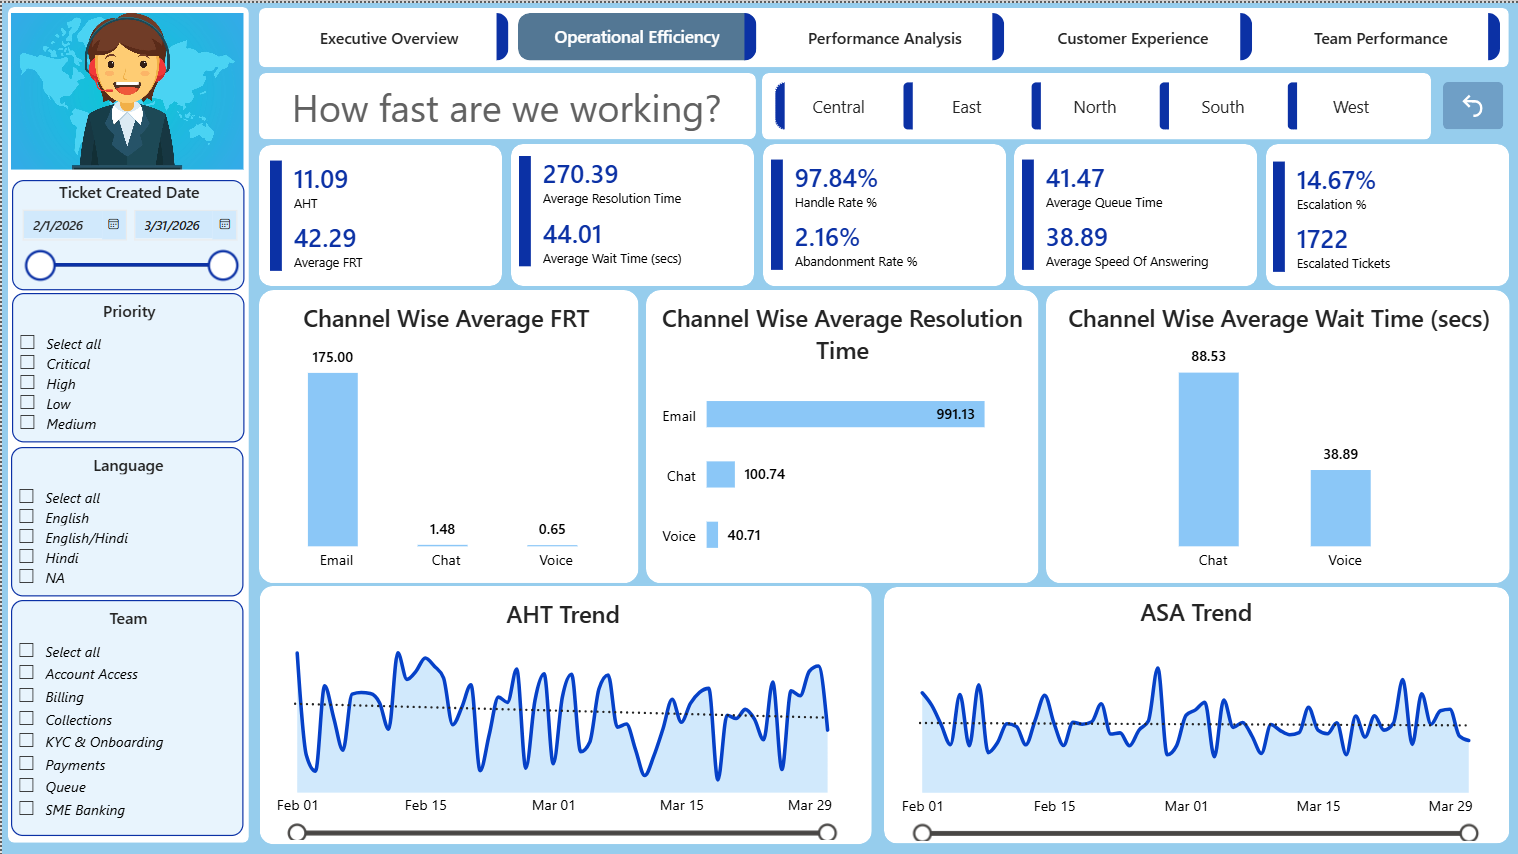

The dashboard page shown, as its layout file describes it:
{"tool":"powerbi","page":{"name":"Operational Efficiency","canvas":[1280,720],"ordinal":2},"visuals":[{"type":"shape","box":[5.4,3.6,203.1,704.6],"z":0,"group":"g14"},{"type":"shape","box":[216.7,4.5,1053.7,49.9],"z":0,"group":"g12"},{"type":"shape","box":[216.7,58.9,418.9,55.9],"z":0,"group":"g11"},{"type":"shape","box":[641.1,58.9,564,56.2],"z":0,"group":"g13"},{"type":"shape","box":[1065.5,118.8,205,120],"z":0,"group":"g5"},{"type":"shape","box":[429.1,118.9,204.9,119.7],"z":0,"group":"g2"},{"type":"shape","box":[641.2,119.1,205,120],"z":0,"group":"g3"},{"type":"shape","box":[853.5,119.1,205,120],"z":0,"group":"g4"},{"type":"group","id":"g1","title":"SLA & Avg Q Score ","box":[216.7,119.7,204.9,118.9],"z":0},{"type":"shape","box":[216.7,119.7,204.9,118.9],"z":0,"group":"g1"},{"type":"shape","box":[216.4,241.7,320,247.3],"z":0,"group":"g6"},{"type":"shape","box":[542.7,241.7,330.9,247.3],"z":0,"group":"g7"},{"type":"shape","box":[880,241.7,390.9,247.3],"z":0,"group":"g8"},{"type":"shape","box":[207.7,491.5,535.9,217.6],"z":0,"group":"g9"},{"type":"shape","box":[743.6,492.7,527.3,216.4],"z":0,"group":"g10"},{"type":"pageNavigator","box":[225.8,9,1040.1,40.8],"z":1000,"group":"g12"},{"type":"textbox","box":[220.5,65.1,410.8,42.8],"z":1000,"group":"g11"},{"type":"advancedSlicerVisual","fields":{"Values":["Call_Center_View.Customer_Region"]},"box":[651.1,65.2,543.2,42.6],"z":1000,"group":"g13"},{"type":"group","id":"g2","title":"Total Tickets & AHT","box":[429.1,118.9,204.9,119.7],"z":1000},{"type":"multiRowCard","fields":{"Values":["Measures Table.Average Resolution Time","Measures Table.Average Wait Time (secs)"]},"box":[436,128.9,189.9,99.8],"z":1000,"group":"g2"},{"type":"multiRowCard","fields":{"Values":["Measures Table.Handle Rate %","Measures Table.Abandonment Rate %"]},"box":[648.1,129.1,190,100],"z":1000,"group":"g3"},{"type":"multiRowCard","fields":{"Values":["Measures Table.Average Queue Time","Measures Table.Average Speed Of Answering"]},"box":[860.4,129.1,190,100],"z":1000,"group":"g4"},{"type":"multiRowCard","fields":{"Values":["Measures Table.AHT","Measures Table.Average FRT"]},"box":[225.9,129.6,189.9,99.1],"z":1000,"group":"g1"},{"type":"multiRowCard","fields":{"Values":["Measures Table.Escalation %","Measures Table.Escalated Tickets"]},"box":[1071.4,130.8,191.3,101.6],"z":1000,"group":"g5"},{"type":"columnChart","title":"Channel Wise Average FRT","fields":{"Category":["Call_Center_View.Channel"],"Y":["Measures Table.Average FRT"]},"box":[220.9,250.8,307.3,231.8],"z":1000,"group":"g6"},{"type":"barChart","title":"Channel Wise Average Resolution Time","fields":{"Category":["Call_Center_View.Channel"],"Y":["Measures Table.Average Resolution Time"]},"box":[552.7,250.8,310.9,231.8],"z":1000,"group":"g7"},{"type":"clusteredColumnChart","title":"Channel Wise Average Wait Time (secs)","fields":{"Category":["Call_Center_View.Channel"],"Y":["Measures Table.Average Wait Time (secs)"]},"box":[891.8,250.8,369.4,231.8],"z":1000,"group":"g8"},{"type":"listSlicer","fields":{"Values":["Call_Center_View.Language"]},"box":[8.3,374.5,195.9,126],"z":1000,"group":"g14"},{"type":"lineChart","title":"ASA Trend","fields":{"Category":["Date_Table.Date.Variation.Date Hierarchy.Year","Date_Table.Date.Variation.Date Hierarchy.Quarter","Date_Table.Date.Variation.Date Hierarchy.Month","Date_Table.Date.Variation.Date Hierarchy.Day"],"Y":["Measures Table.Average Speed Of Answering"]},"box":[747.6,499.3,517.8,206.8],"z":1000,"group":"g10"},{"type":"lineChart","title":"AHT Trend","fields":{"Category":["Date_Table.Date.Variation.Date Hierarchy.Year","Date_Table.Date.Variation.Date Hierarchy.Quarter","Date_Table.Date.Variation.Date Hierarchy.Month","Date_Table.Date.Variation.Date Hierarchy.Day"],"Y":["Measures Table.AHT"]},"box":[220.8,501,504.2,204.9],"z":1000,"group":"g9"},{"type":"group","id":"g3","title":"Handled & Resolved Tickets","box":[641.2,119.1,205,120],"z":2000},{"type":"slicer","title":"Ticket Created Date","fields":{"Values":["Call_Center_View.Created Date"]},"box":[8.4,149.2,195.6,92.7],"z":2000,"group":"g14"},{"type":"group","id":"g4","title":"Pending & Abandoned Tickets","box":[853.5,119.1,205,120],"z":3000},{"type":"listSlicer","fields":{"Values":["Call_Center_View.Team"]},"box":[8.3,503.6,195.9,198.6],"z":3000,"group":"g14"},{"type":"group","id":"g5","title":"Open & Reopened Tickets","box":[1065.5,118.8,205,120],"z":4000},{"type":"listSlicer","fields":{"Values":["Call_Center_View.Priority"]},"box":[8.5,245,195.6,126.5],"z":4000,"group":"g14"},{"type":"image","box":[8.1,9,195.9,132.4],"z":5000,"group":"g14"},{"type":"group","id":"g6","title":"Channel Wise SLA","box":[216.4,241.7,320,247.3],"z":5000},{"type":"group","id":"g7","title":"Channel Wise AHT","box":[542.7,241.7,330.9,247.3],"z":6000},{"type":"group","id":"g8","title":"Channel Wise Tickets","box":[880,241.7,390.9,247.3],"z":7000},{"type":"group","id":"g9","title":"Tickets Inflow Trend","box":[207.7,491.5,535.9,217.6],"z":8000},{"type":"group","id":"g10","title":"Service Level Trend","box":[743.6,492.7,527.3,216.4],"z":9000},{"type":"group","id":"g11","title":"What's happening ?","box":[216.7,58.9,418.9,55.3],"z":10000},{"type":"group","id":"g12","title":"Page Navigator","box":[216.7,4.5,1053.7,49.9],"z":11000},{"type":"group","id":"g13","title":"Customer Region","box":[641.1,58.9,564,56.2],"z":12000},{"type":"actionButton","title":"Reset All Filters","box":[1215.1,66.2,50.8,39.9],"z":13000},{"type":"group","id":"g14","title":"Left Filter Pane","box":[5.4,3.6,203.1,704.6],"z":14000}]}

Visuals, with their boxes in screenshot pixels (x1, y1, x2, y2), scaled from the page's 1280x720 canvas onto the 1518x854 screenshot:
shape: [6, 4, 247, 840]
shape: [257, 5, 1507, 65]
shape: [257, 70, 754, 136]
shape: [760, 70, 1429, 137]
shape: [1264, 141, 1507, 283]
shape: [509, 141, 752, 283]
shape: [760, 141, 1004, 284]
shape: [1012, 141, 1255, 284]
"SLA & Avg Q Score " group: [257, 142, 500, 283]
shape: [257, 142, 500, 283]
shape: [257, 287, 636, 580]
shape: [644, 287, 1036, 580]
shape: [1044, 287, 1507, 580]
shape: [246, 583, 882, 841]
shape: [882, 584, 1507, 841]
pageNavigator: [268, 11, 1501, 59]
textbox: [261, 77, 749, 128]
advancedSlicerVisual - Call_Center_View.Customer_Region: [772, 77, 1416, 128]
"Total Tickets & AHT" group: [509, 141, 752, 283]
multiRowCard - Measures Table.Average Resolution Time x Measures Table.Average Wait Time (secs): [517, 153, 742, 271]
multiRowCard - Measures Table.Handle Rate % x Measures Table.Abandonment Rate %: [769, 153, 994, 272]
multiRowCard - Measures Table.Average Queue Time x Measures Table.Average Speed Of Answering: [1020, 153, 1246, 272]
multiRowCard - Measures Table.AHT x Measures Table.Average FRT: [268, 154, 493, 271]
multiRowCard - Measures Table.Escalation % x Measures Table.Escalated Tickets: [1271, 155, 1497, 276]
"Channel Wise Average FRT" columnChart: [262, 297, 626, 572]
"Channel Wise Average Resolution Time" barChart: [655, 297, 1024, 572]
"Channel Wise Average Wait Time (secs)" clusteredColumnChart: [1058, 297, 1496, 572]
listSlicer - Call_Center_View.Language: [10, 444, 242, 594]
"ASA Trend" lineChart: [887, 592, 1501, 838]
"AHT Trend" lineChart: [262, 594, 860, 837]
"Handled & Resolved Tickets" group: [760, 141, 1004, 284]
"Ticket Created Date" slicer: [10, 177, 242, 287]
"Pending & Abandoned Tickets" group: [1012, 141, 1255, 284]
listSlicer - Call_Center_View.Team: [10, 597, 242, 833]
"Open & Reopened Tickets" group: [1264, 141, 1507, 283]
listSlicer - Call_Center_View.Priority: [10, 291, 242, 441]
image: [10, 11, 242, 168]
"Channel Wise SLA" group: [257, 287, 636, 580]
"Channel Wise AHT" group: [644, 287, 1036, 580]
"Channel Wise Tickets" group: [1044, 287, 1507, 580]
"Tickets Inflow Trend" group: [246, 583, 882, 841]
"Service Level Trend" group: [882, 584, 1507, 841]
"What's happening ?" group: [257, 70, 754, 135]
"Page Navigator" group: [257, 5, 1507, 65]
"Customer Region" group: [760, 70, 1429, 137]
"Reset All Filters" actionButton: [1441, 79, 1501, 126]
"Left Filter Pane" group: [6, 4, 247, 840]
